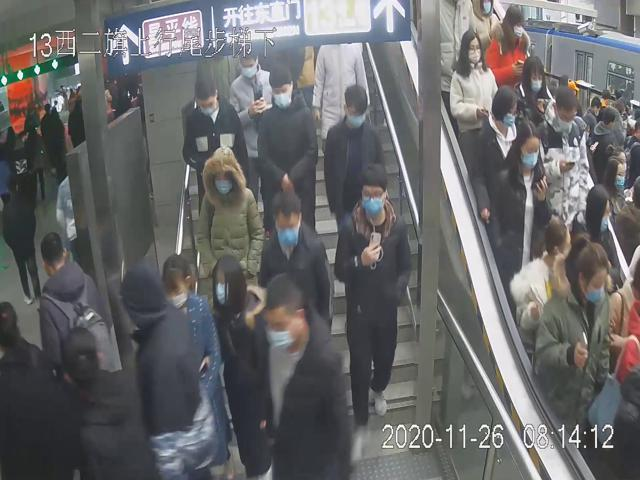person: (334, 161, 413, 467), (257, 273, 355, 480), (534, 235, 611, 440), (209, 255, 277, 469), (260, 182, 334, 329), (195, 145, 263, 304), (487, 120, 552, 286), (257, 64, 319, 235), (182, 77, 251, 224), (324, 85, 388, 235), (532, 85, 592, 244), (228, 43, 283, 212), (469, 84, 525, 230), (448, 27, 498, 173)
